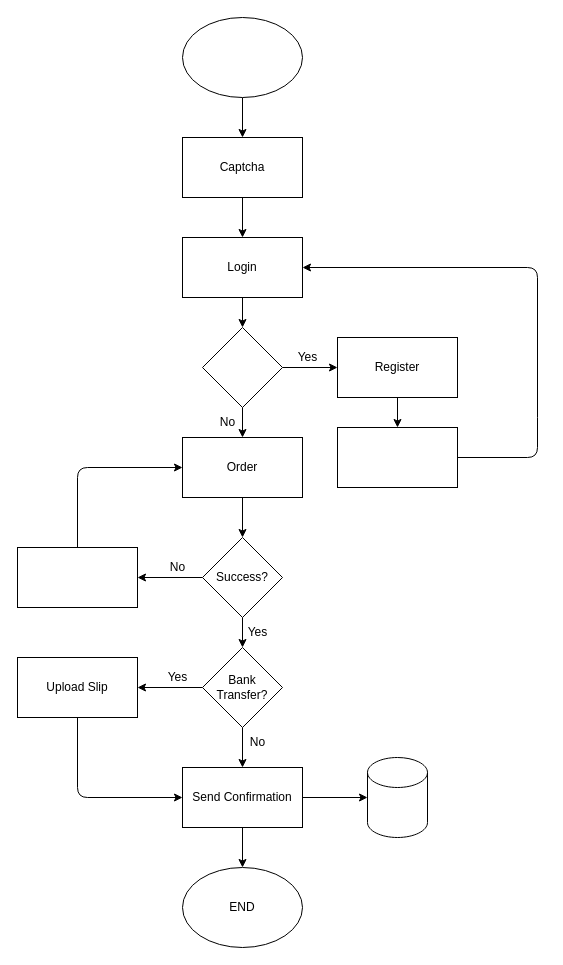
Some shapes in this 563 by 965 pixel diagram are drawn without their labels. Each missing label, with the box of its shape:
Error Message: (16, 546, 138, 608)
Mail Verify: (336, 426, 458, 488)
New User?: (202, 326, 282, 408)
Order DB: (366, 756, 428, 838)
START: (182, 16, 302, 98)
